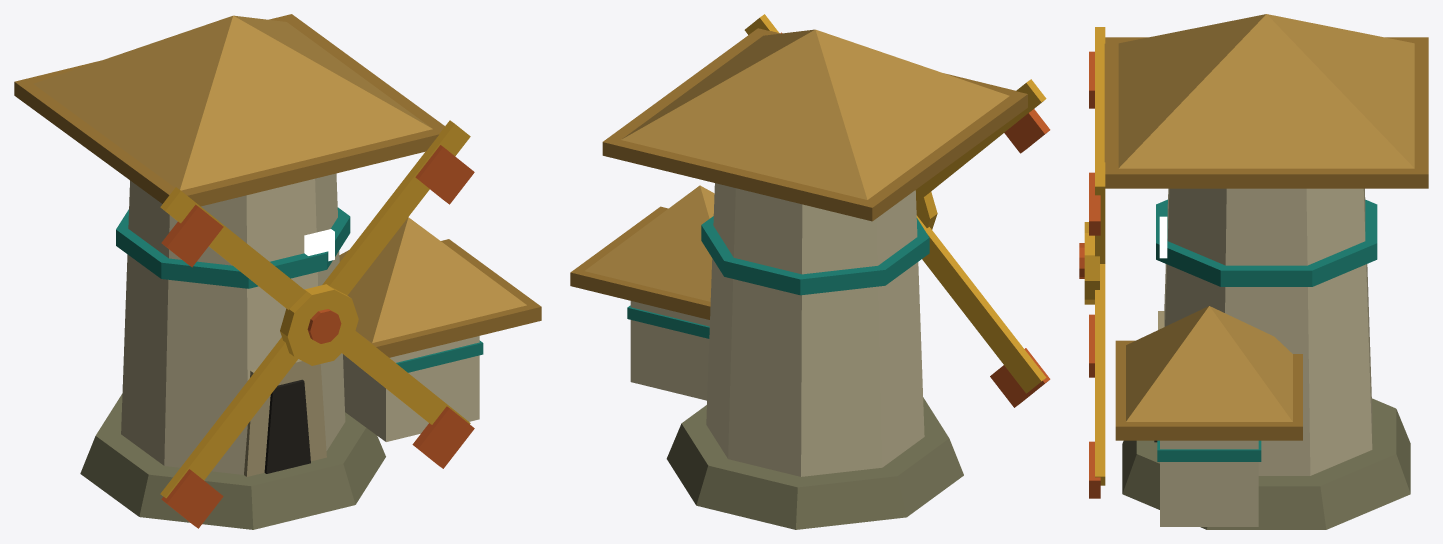
File: mill_t2.glb
3 renders of one model, left to right at view 1: azimuth 30°, elevation 25°; view 2: azimuth 150°, elevation 25°; view 3: azimuth 270°, elevation 25°, orthographic. The views are drawn at different scales.
Parts seen in each view (by area): view 1: body, part_rotor, glow; view 2: body, part_rotor; view 3: body, part_rotor.
Part boxes in pixels (bbox=[...]): body: bbox=[14, 14, 541, 529]; part_rotor: bbox=[160, 120, 474, 528]; glow: bbox=[304, 229, 334, 261]; body: bbox=[570, 28, 1027, 529]; part_rotor: bbox=[744, 14, 1050, 407]; body: bbox=[1104, 14, 1428, 529]; part_rotor: bbox=[1079, 27, 1105, 498].
Size of the model in its own units: 1.74 by 1.93 by 1.34.
